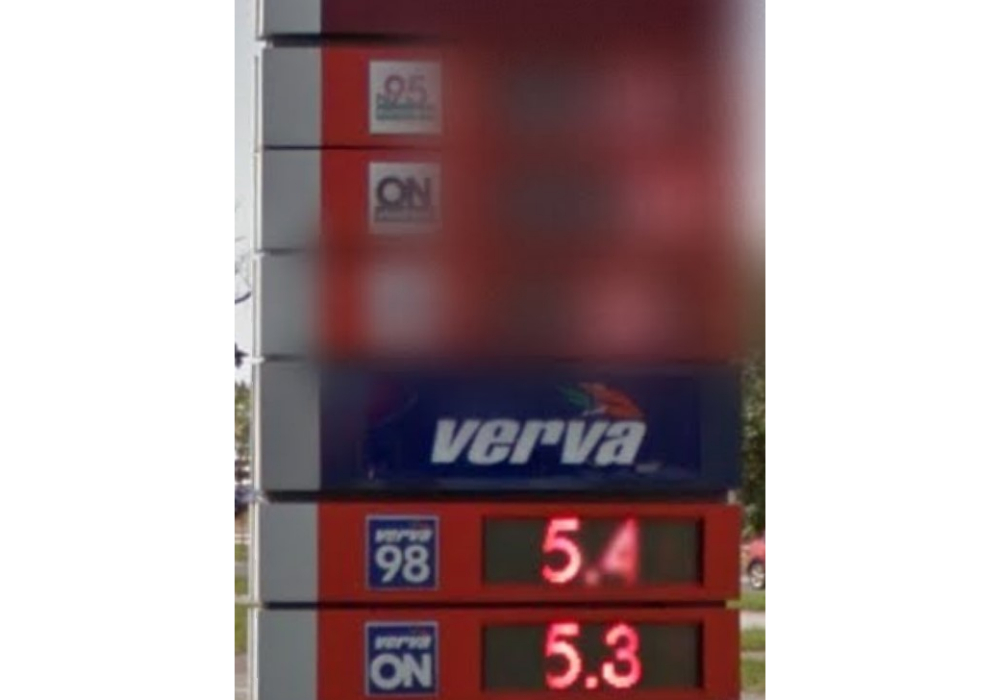ON: (365, 620, 439, 697), (367, 157, 444, 229)
PB95: (368, 55, 442, 137)
PB98: (365, 513, 440, 589)
